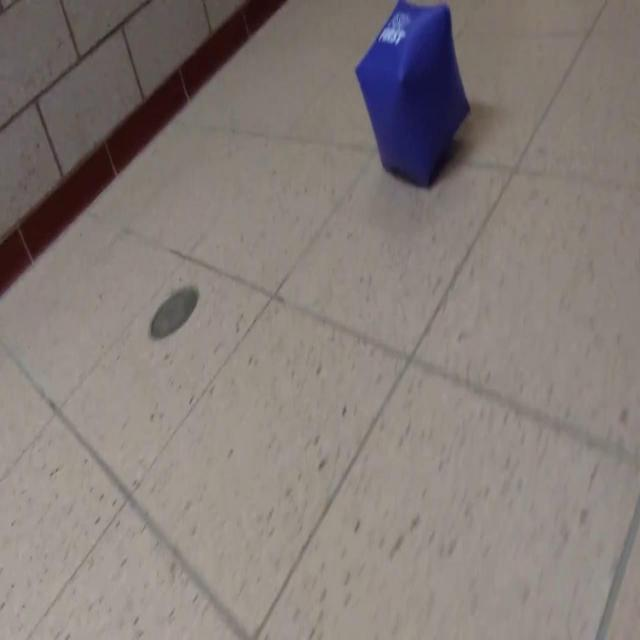frc_cube: (354, 0, 470, 188)
